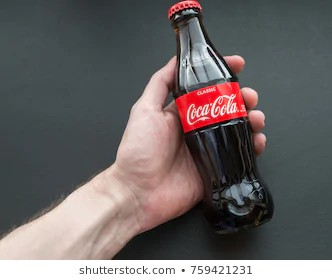coke-glass-bottle: (167, 6, 265, 246)
